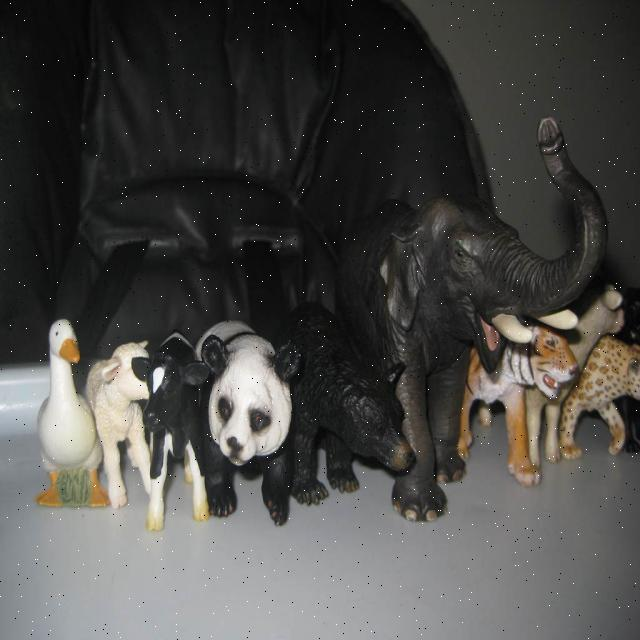panda: (193, 313, 303, 531)
